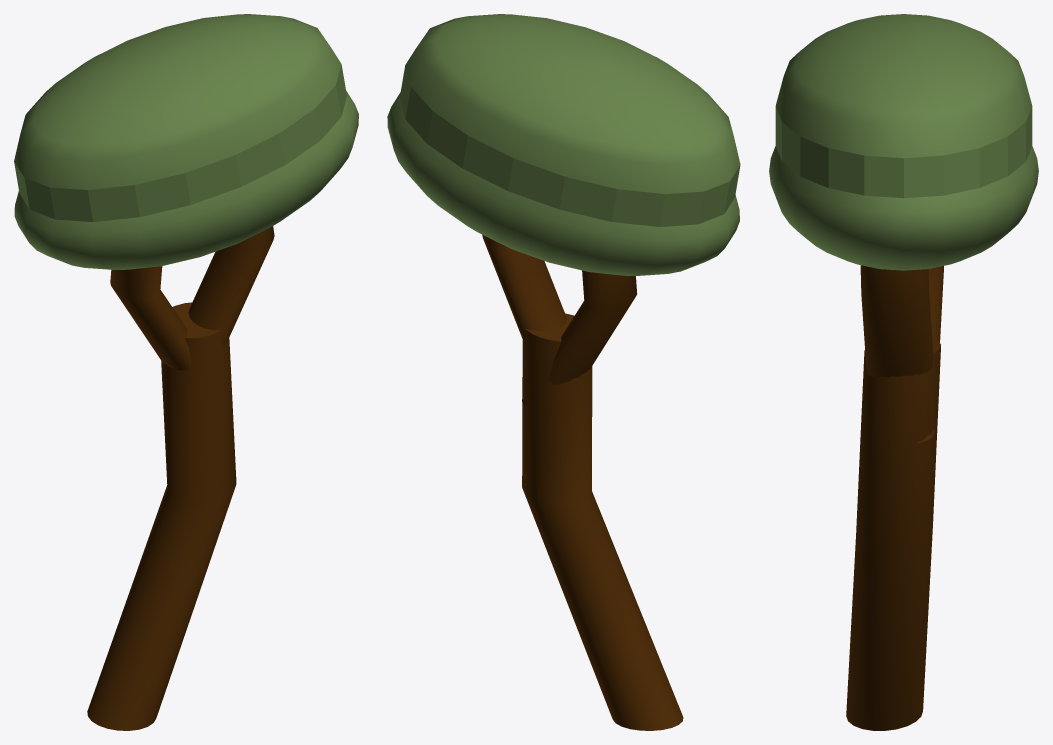
Rendered from Atree.fbx.
The picture shows the model from 3 angles, left to right: view 1: azimuth 30°, elevation 25°; view 2: azimuth 150°, elevation 25°; view 3: azimuth 270°, elevation 25°; orthographic projection. The views are drawn at different scales.
Visible parts, largest first — view 1: treeebody1; view 2: treeebody1; view 3: treeebody1.
Part boxes in pixels (x1,y1,x2,y2): treeebody1: (14, 14, 358, 730); treeebody1: (387, 14, 740, 730); treeebody1: (769, 14, 1038, 730).
Size of the model in its own units: 6.02 by 11.57 by 3.92.
